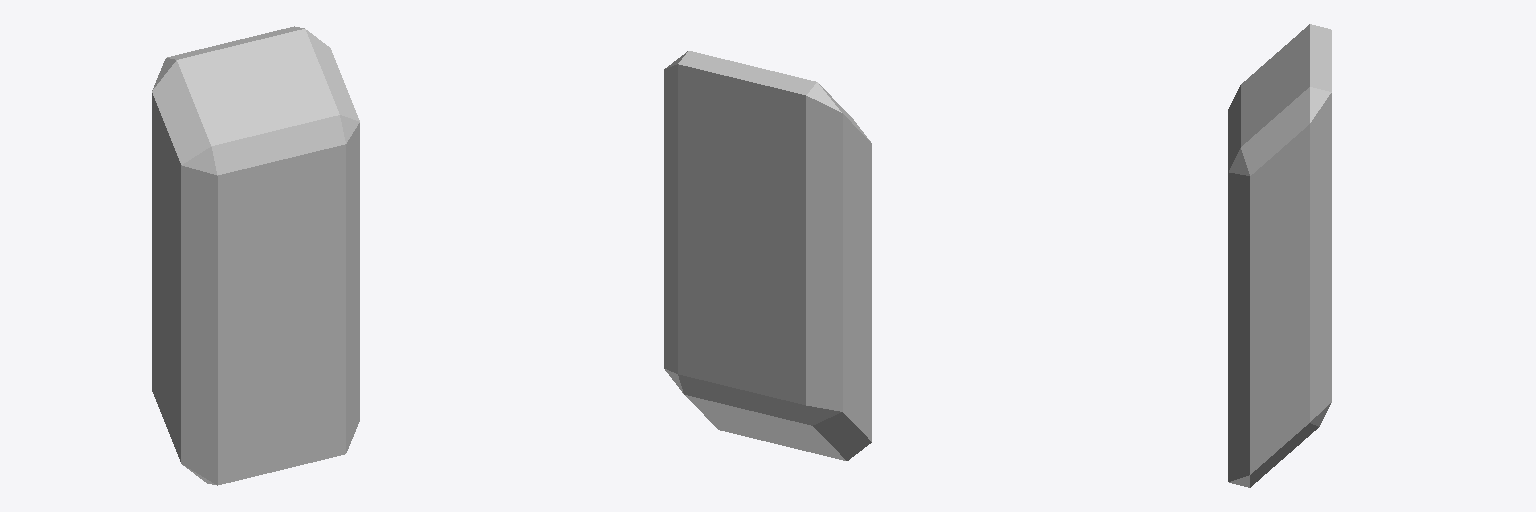
File: Eraser_01(1).obj
The picture shows the model from 3 angles: view 1: azimuth 30°, elevation 25°; view 2: azimuth 150°, elevation 25°; view 3: azimuth 270°, elevation 25°; orthographic projection.
Visible parts, largest first — view 1: pCube3; view 2: pCube3; view 3: pCube3.
Boxes of the visible parts, box(x1,y1,x2,y2) form: pCube3: box(152, 26, 359, 485); pCube3: box(664, 51, 871, 460); pCube3: box(1228, 24, 1331, 487).
Size of the model in its own units: 33.35 by 71.57 by 16.69.